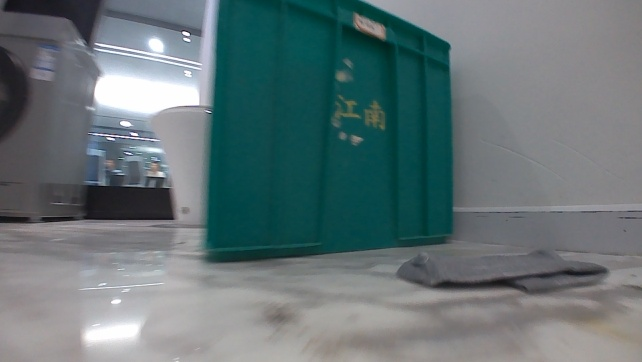socks: (393, 246, 610, 297)
toilet: (141, 102, 212, 229)
washing_machine: (0, 0, 103, 223)
